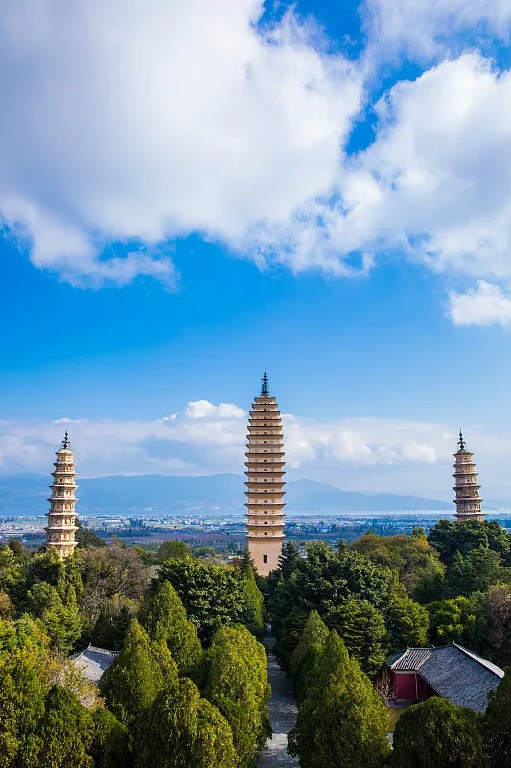ThreePagoda: (244, 371, 287, 577)
